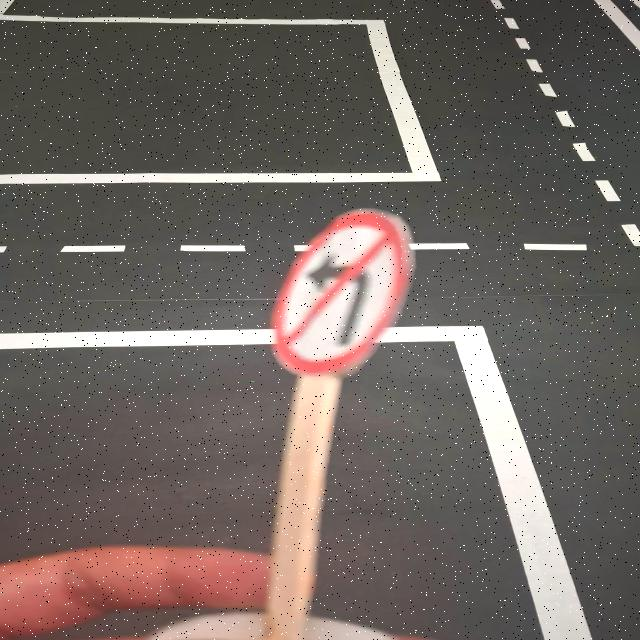Dilarang Belok Kiri: (271, 210, 412, 377)
